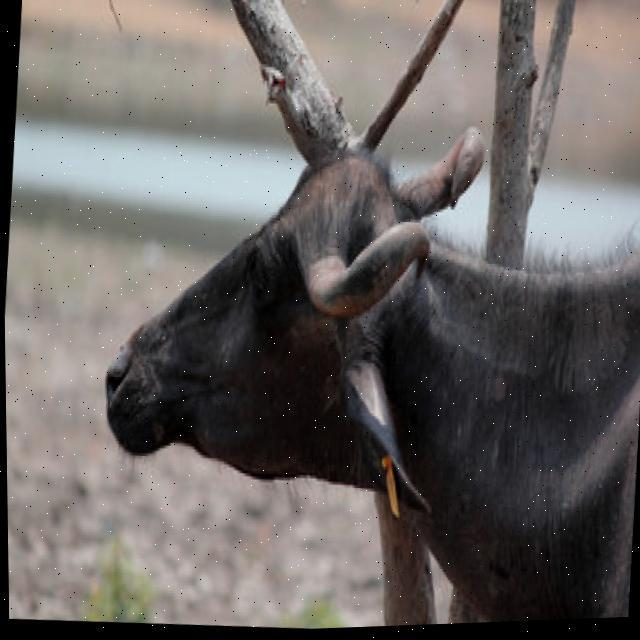Buffalo: (82, 94, 640, 637)
